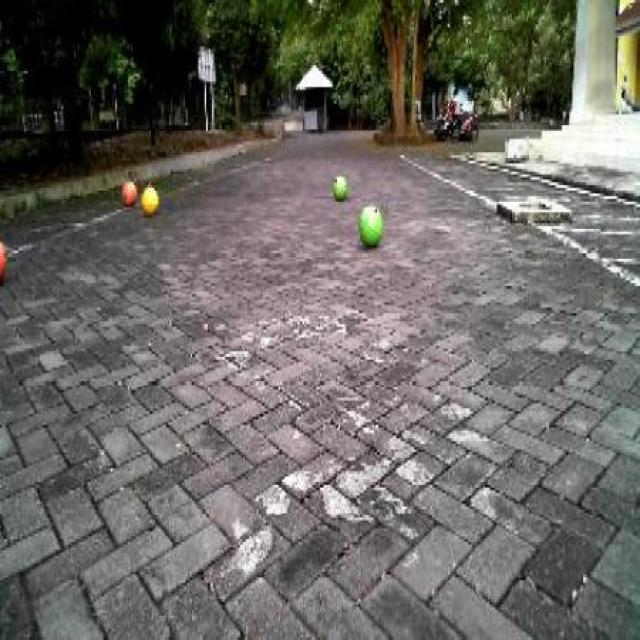buoy: (355, 194, 383, 244), (138, 177, 162, 218), (0, 228, 13, 293), (118, 177, 141, 213), (330, 168, 347, 200)
